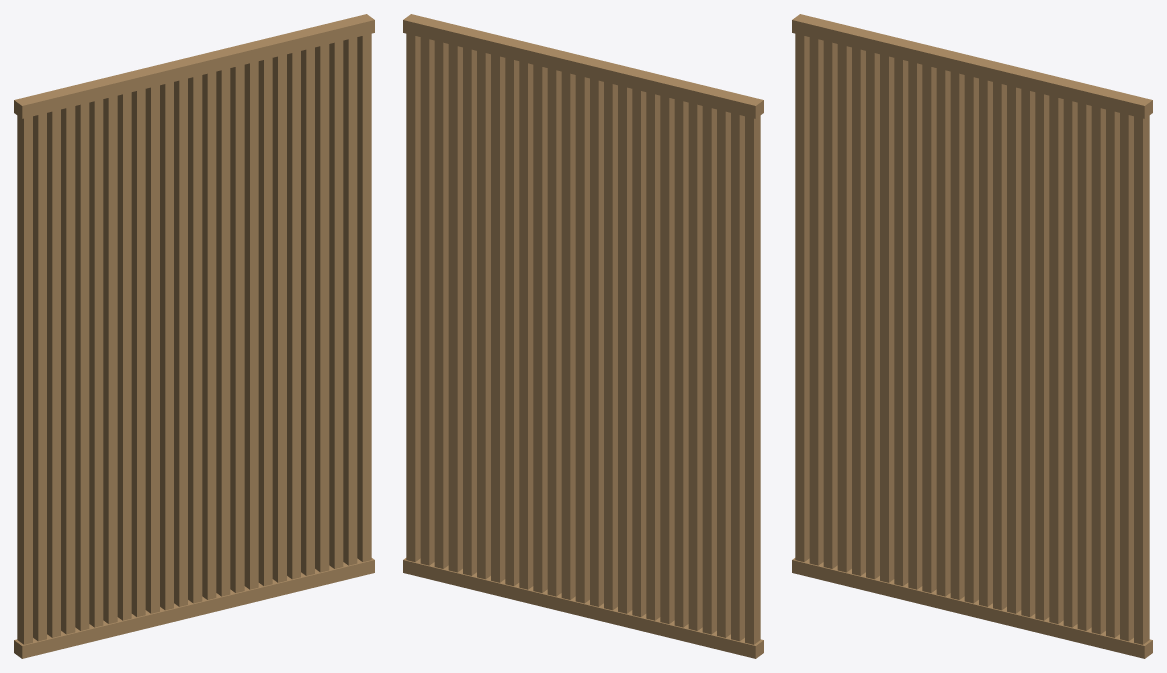
Rendered from 01_wood_slat_partition_destructible.glb.
3 renders of one model, left to right at view 1: azimuth 30°, elevation 25°; view 2: azimuth 150°, elevation 25°; view 3: azimuth 330°, elevation 25°, orthographic.
Visible parts, largest first — view 1: Intact; view 2: Intact; view 3: Intact.
Boxes of the visible parts, box(x1,y1,x2,y2) form: Intact: box(14, 14, 374, 658); Intact: box(403, 14, 763, 658); Intact: box(792, 14, 1152, 658).
Size of what is drawn, in the model's own units: 2 by 3 by 0.08.
